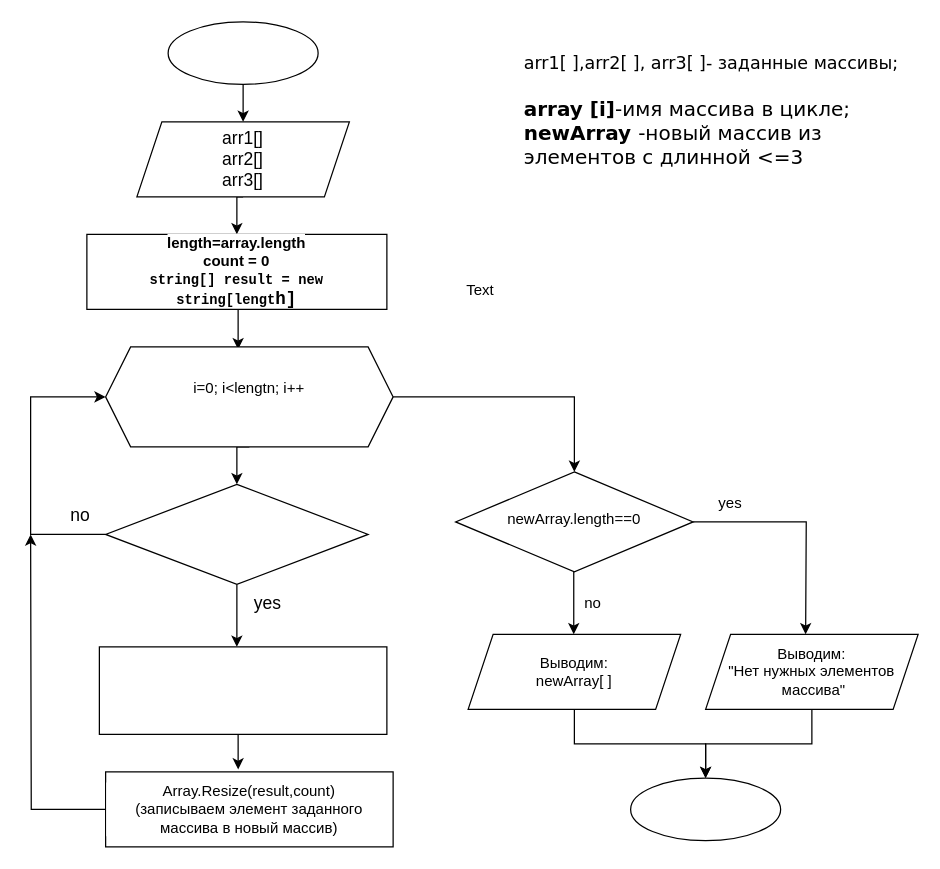
The diagram is 940 pixels wide and 869 high, and some of its shapes have lost their labels. The shapes that lost their labels are listed below. From the top down, each one's centre as x and y in pixels, then its label:
the point at 242,52: Start
the point at 236,533: array[i].length<=3
the point at 242,690: result[count]=array[i] count+1
the point at 705,809: Finish
